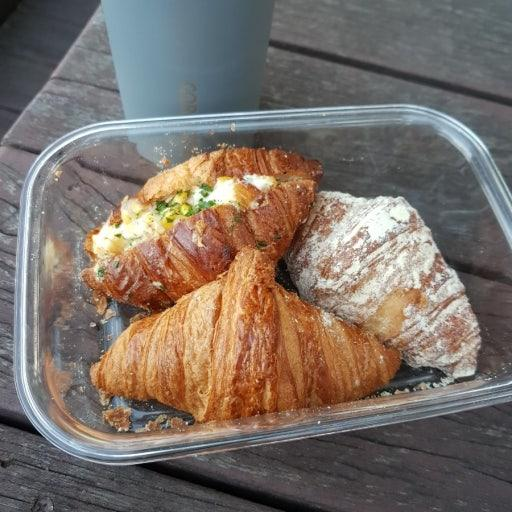Bottle: (101, 0, 274, 125)
Lunch Box: (14, 105, 511, 463)
